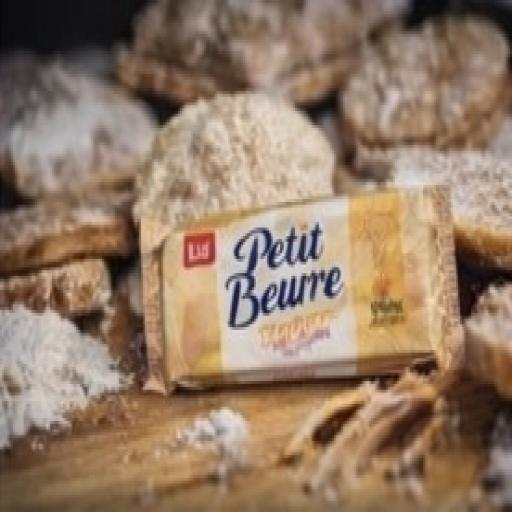petit-beurre: (101, 154, 496, 456)
